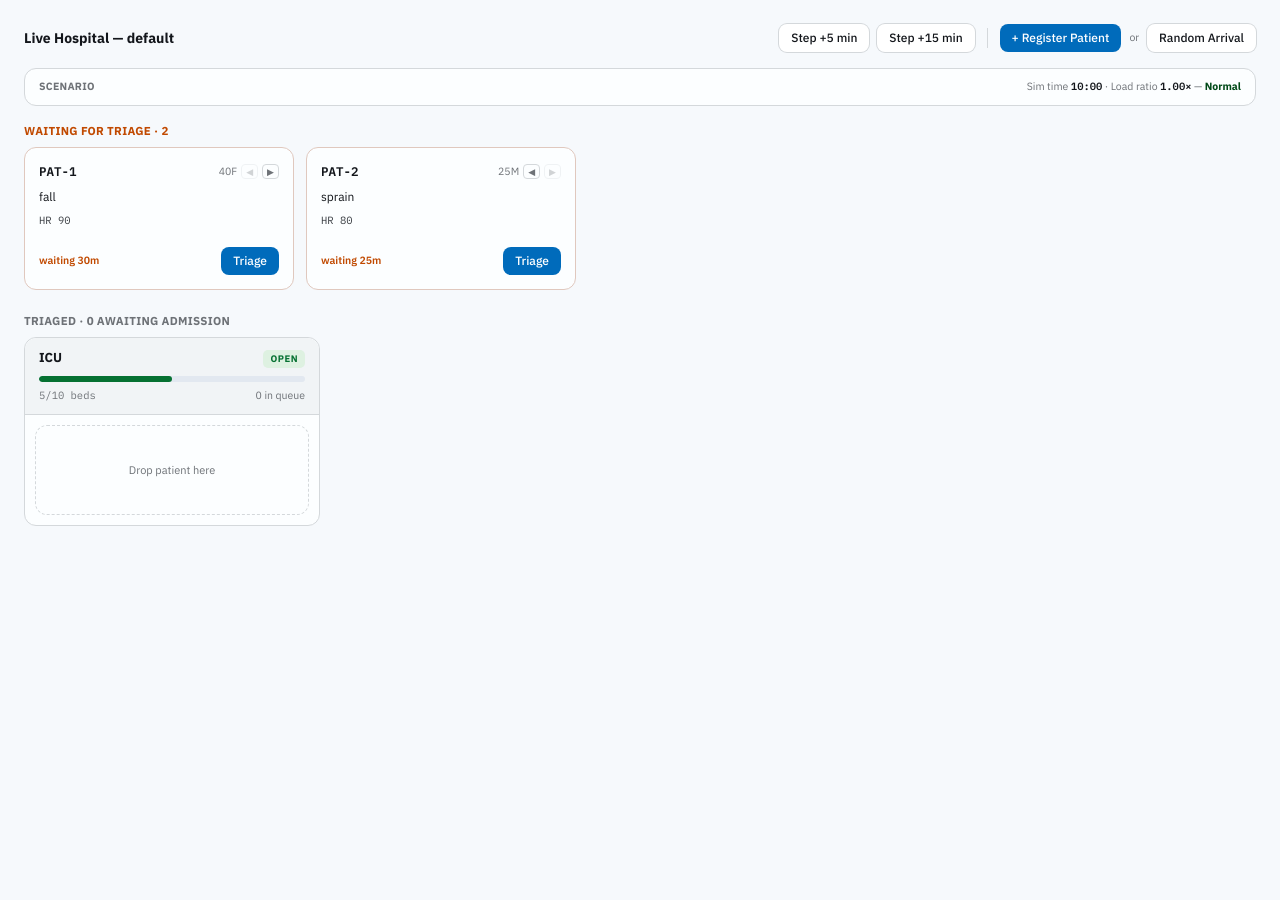
Test: LiveHospital › opens the TriageModal from the rail card's Triage button
This screenshot has width=1280, height=900.
Expected: the text "PAT-1" is shown, [39,162,76,181]
Click the button "Triage" next to "waiting 30m".
click(250, 260)  # box [221,246,279,274]
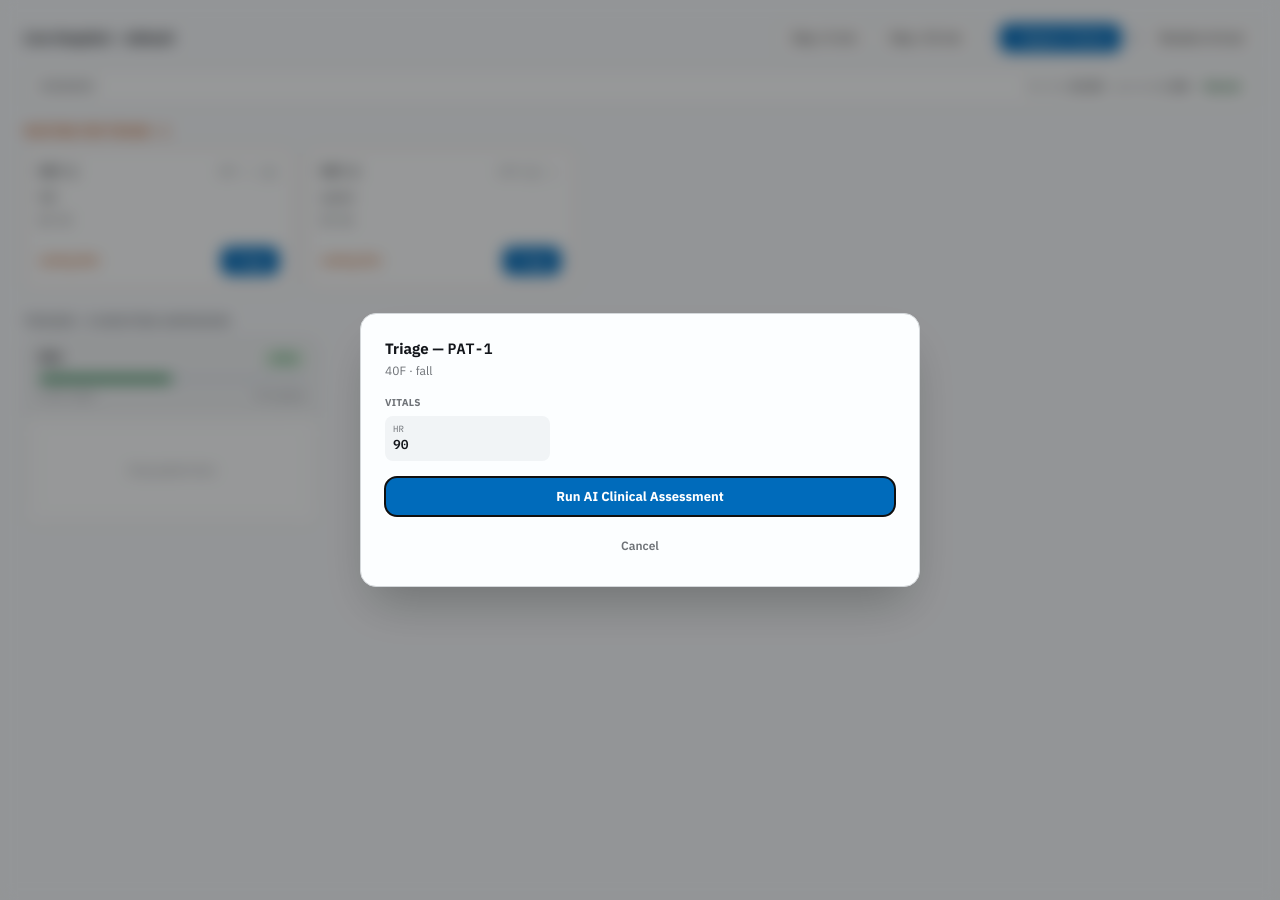
Expected: the button "Run AI Clinical Assessment" is shown, [385,476,895,516]
